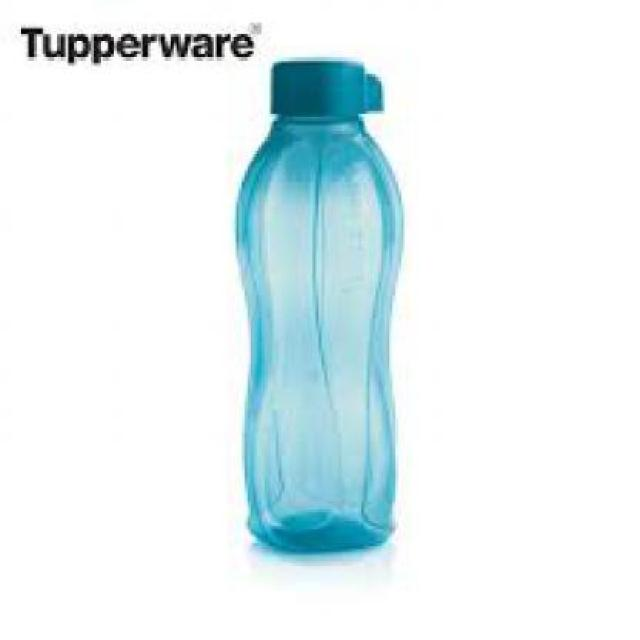Drinking: (208, 54, 422, 546)
